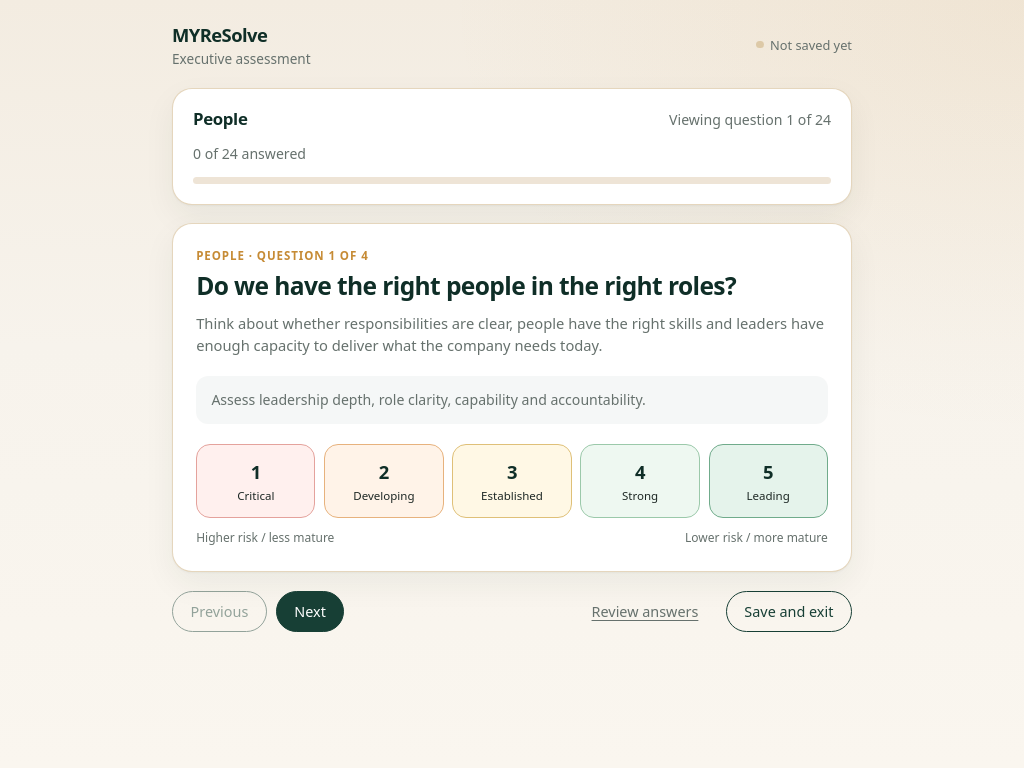
AssessmentApp › selects maturity without creating per-question confidence
Click the radio button with test id "maturity-3". click: coordinates (512, 481)
box: x1=452 y1=444 x2=572 y2=518
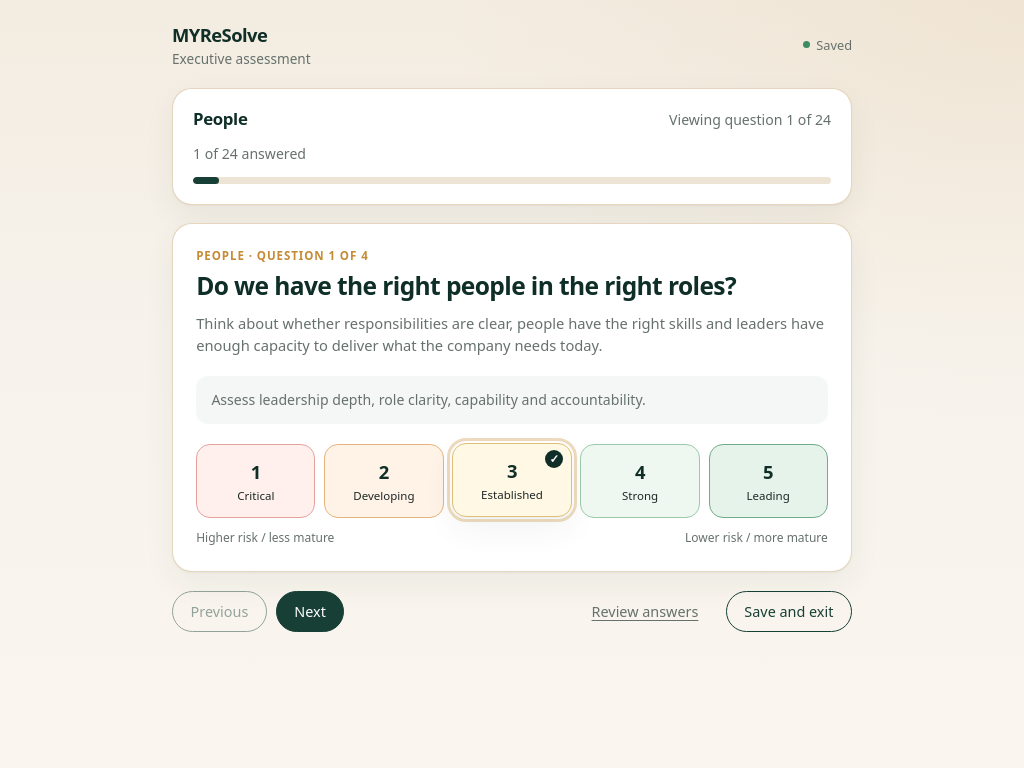
Expected: the element with test id "save-status" reads "Saved", x1=816 y1=36 x2=852 y2=54
